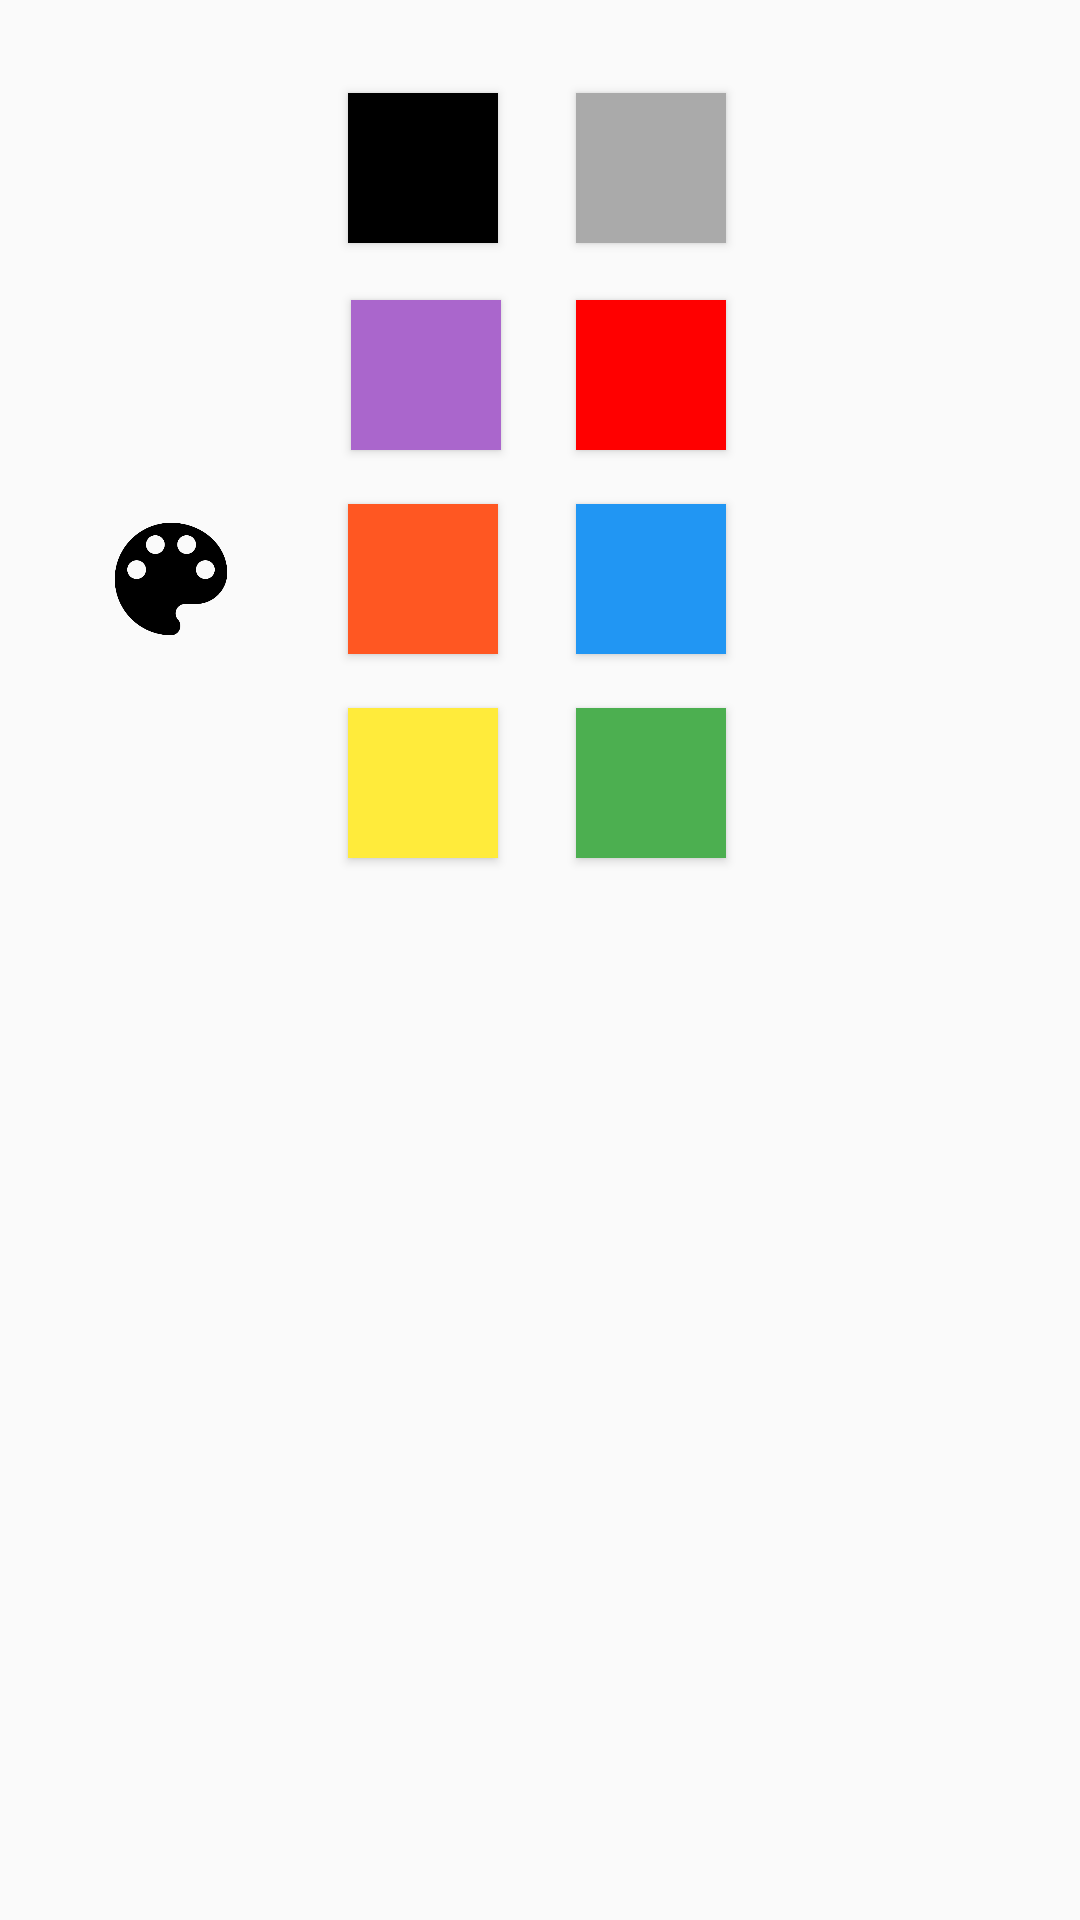

Locate icon controls on the screen. Image size 1080×1920, boxes as (x1, y1, x2, y2).
palette: (115, 523, 227, 635)
